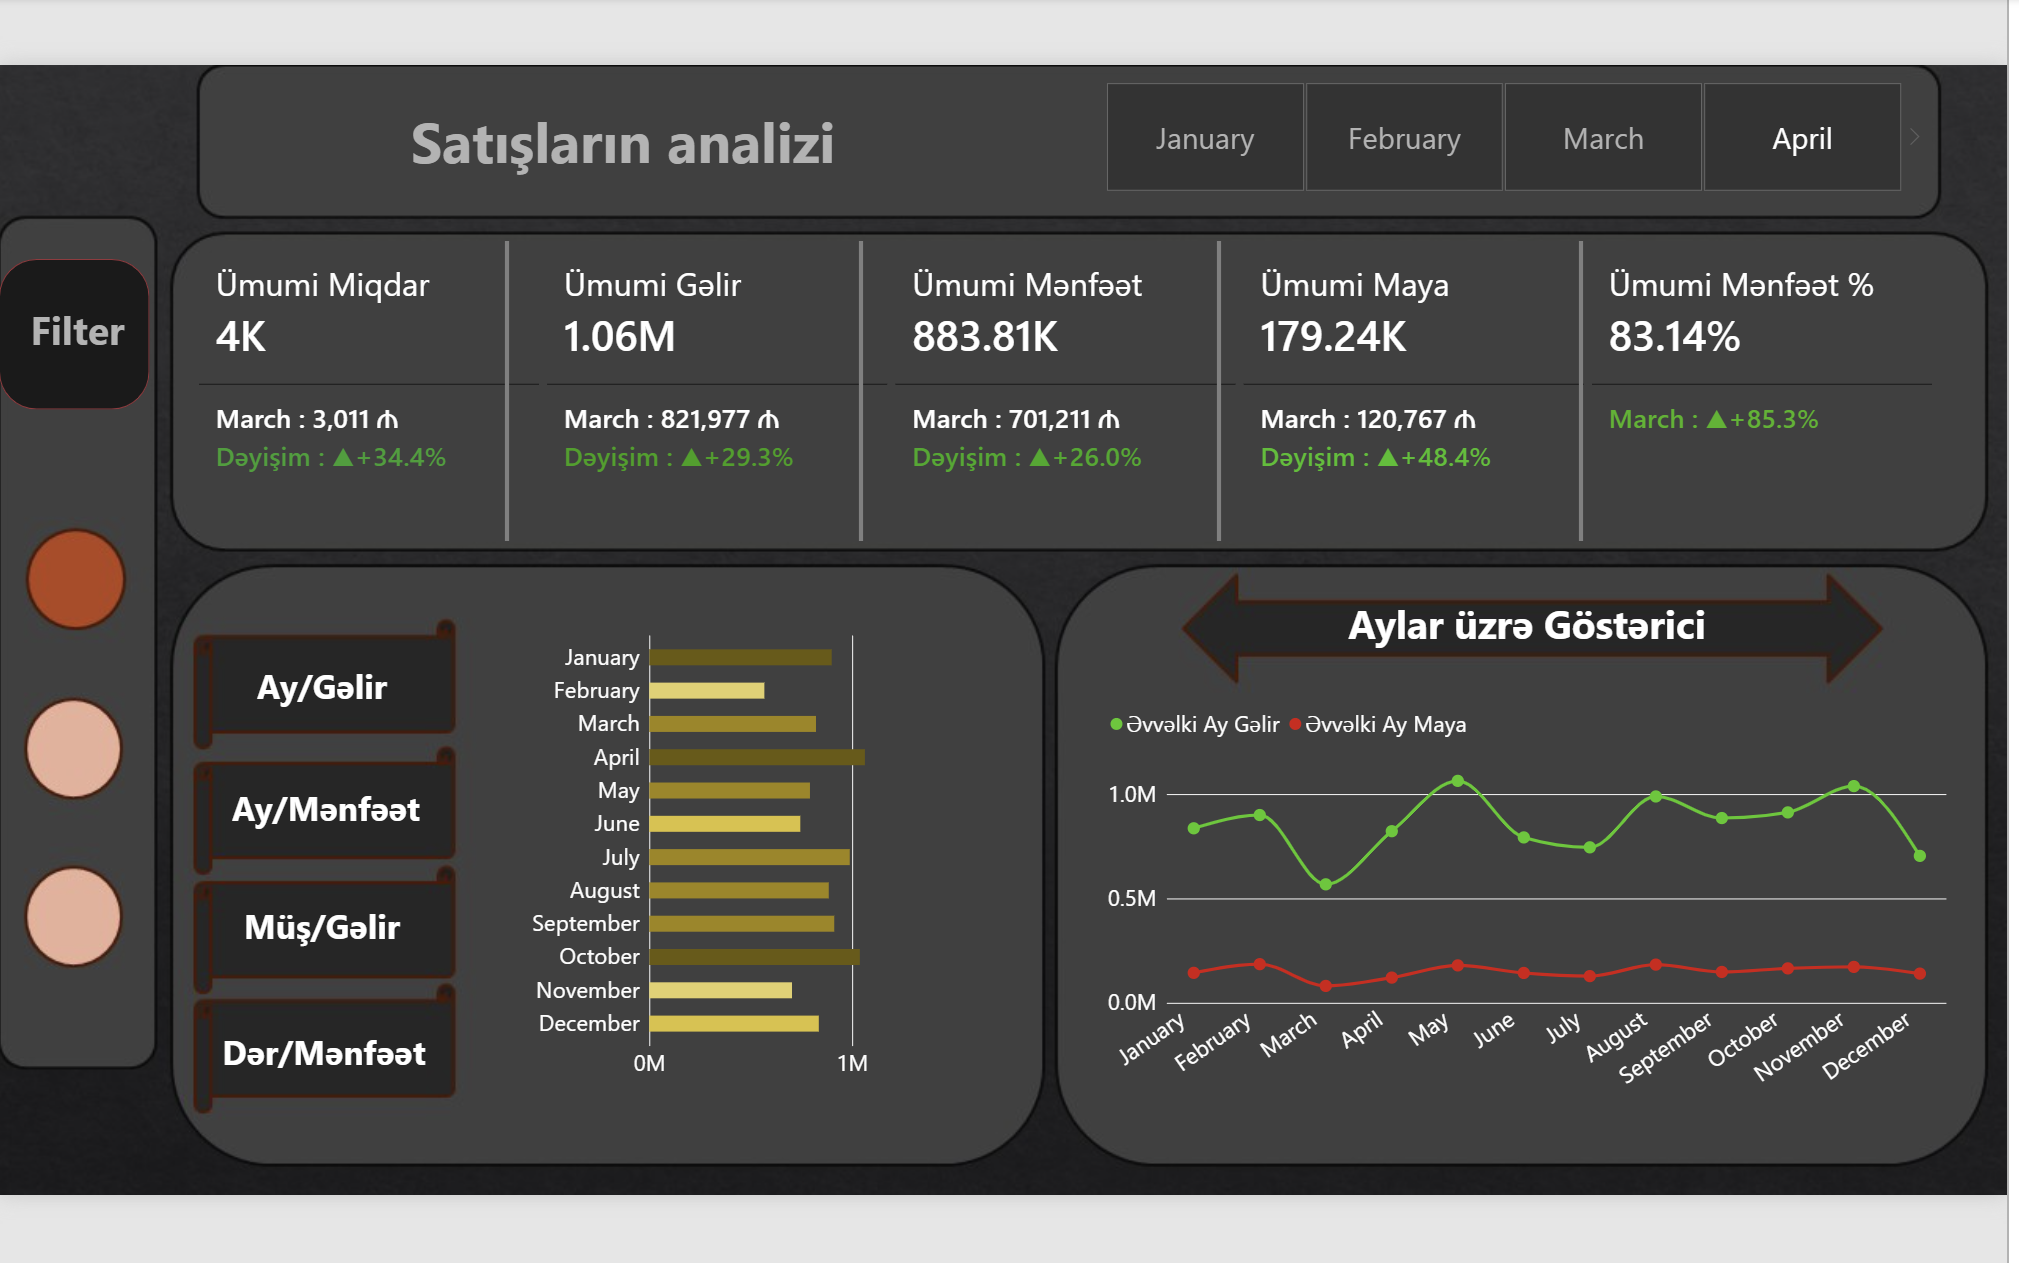

This screenshot's page, from the dashboard's own definition file:
{"tool":"powerbi","page":{"name":"Page 1","canvas":[1920,1080],"ordinal":0},"visuals":[{"type":"textbox","box":[233.3,36.3,726.7,86.1],"z":0},{"type":"slicer","fields":{"Values":["Tarix.Month Name"]},"box":[1038.4,15.3,799.4,107.1],"z":1000},{"type":"cardVisual","fields":{"Data":["Measures (2).Umumi Miqdar","Measures (2).Umumi gelir","Measures (2).Umumi Menfeet","Measures (2).Umumi Maya","Measures (2).Umumi Menfeet %"]},"box":[191.2,168.3,1658,273.5],"z":2000},{"type":"textbox","box":[1254.5,508.7,413.1,63.1],"z":3000},{"type":"textbox","box":[187.4,571.8,242.9,47.8],"z":4000},{"type":"textbox","box":[187.4,801.3,242.9,47.8],"z":5000},{"type":"textbox","box":[191.2,688.4,242.9,47.8],"z":6000},{"type":"textbox","box":[189.3,921.8,242.9,47.8],"z":7000},{"type":"clusteredBarChart","fields":{"Category":["Tarix.Month Name"],"Y":["Measures (2).Umumi gelir"]},"box":[485.7,524,459,466.6],"z":8000},{"type":"lineChart","fields":{"Category":["Tarix.Month Name"],"Y":["Measures (2).Evvelki ay gelir","Measures (2).Evvelki ay maya"]},"box":[1044.1,596.7,833.8,416.9],"z":9000},{"type":"actionButton","box":[15.3,596.7,112.8,118.6],"z":10000},{"type":"actionButton","box":[15.3,757.3,112.8,116.7],"z":11000},{"type":"actionButton","box":[15.3,428.4,114.7,130],"z":12000},{"type":"shape","box":[411.2,168.3,149.2,286.9],"z":13000},{"type":"shape","box":[749.6,168.3,149.2,286.9],"z":14000},{"type":"shape","box":[1092,168.3,149.2,286.9],"z":15000},{"type":"shape","box":[1438.1,168.3,149.2,286.9],"z":16000},{"type":"actionButton","box":[191.4,556.3,242.2,65.8],"z":20000},{"type":"actionButton","box":[191.4,684.9,242.2,65.8],"z":21000},{"type":"actionButton","box":[194.4,792.5,242.2,65.8],"z":21001},{"type":"actionButton","box":[194.4,912.1,242.2,65.8],"z":21002},{"type":"shape","box":[0,185,143.9,143.9],"z":21003},{"type":"textbox","box":[0,228.2,150.1,55.5],"z":21004},{"type":"actionButton","box":[17.9,203.4,110.7,107.7],"z":21009}]}

Visuals, with their boxes on the page's 1920x1080 design canvas (x1, y1, x2, y2). These are canvas units, not pixel positions in the 2019x1263 screenshot, which may show the page scaled, cropped or inside an application window:
textbox: left=233, top=36, right=960, bottom=122
slicer - Tarix.Month Name: left=1038, top=15, right=1838, bottom=122
cardVisual - Measures (2).Umumi Miqdar x Measures (2).Umumi gelir: left=191, top=168, right=1849, bottom=442
textbox: left=1254, top=509, right=1668, bottom=572
textbox: left=187, top=572, right=430, bottom=620
textbox: left=187, top=801, right=430, bottom=849
textbox: left=191, top=688, right=434, bottom=736
textbox: left=189, top=922, right=432, bottom=970
clusteredBarChart - Tarix.Month Name x Measures (2).Umumi gelir: left=486, top=524, right=945, bottom=991
lineChart - Tarix.Month Name x Measures (2).Evvelki ay gelir: left=1044, top=597, right=1878, bottom=1014
actionButton: left=15, top=597, right=128, bottom=715
actionButton: left=15, top=757, right=128, bottom=874
actionButton: left=15, top=428, right=130, bottom=558
shape: left=411, top=168, right=560, bottom=455
shape: left=750, top=168, right=899, bottom=455
shape: left=1092, top=168, right=1241, bottom=455
shape: left=1438, top=168, right=1587, bottom=455
actionButton: left=191, top=556, right=434, bottom=622
actionButton: left=191, top=685, right=434, bottom=751
actionButton: left=194, top=792, right=437, bottom=858
actionButton: left=194, top=912, right=437, bottom=978
shape: left=0, top=185, right=144, bottom=329
textbox: left=0, top=228, right=150, bottom=284
actionButton: left=18, top=203, right=129, bottom=311
